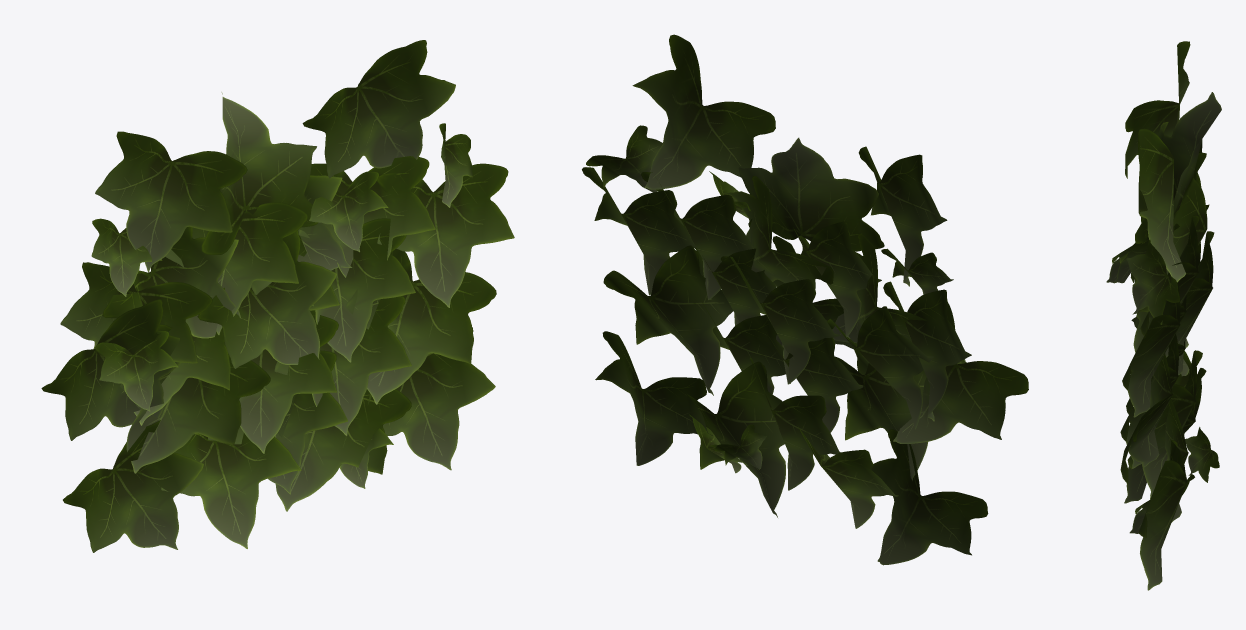
Rendered from square_ivy_cluster.fbx.
3 views of the same model, side by side, from view 1: azimuth 30°, elevation 25°; view 2: azimuth 150°, elevation 25°; view 3: azimuth 270°, elevation 25° (orthographic). The views are drawn at different scales.
Parts seen in each view (by area): view 1: polySurface124; view 2: polySurface124; view 3: polySurface124.
Boxes of the visible parts, x1,y1,x2,y2 form: polySurface124: [41, 40, 514, 552]; polySurface124: [582, 34, 1028, 565]; polySurface124: [1106, 41, 1221, 590].
Size of the model in its own units: 71.97 by 71.82 by 19.06.
